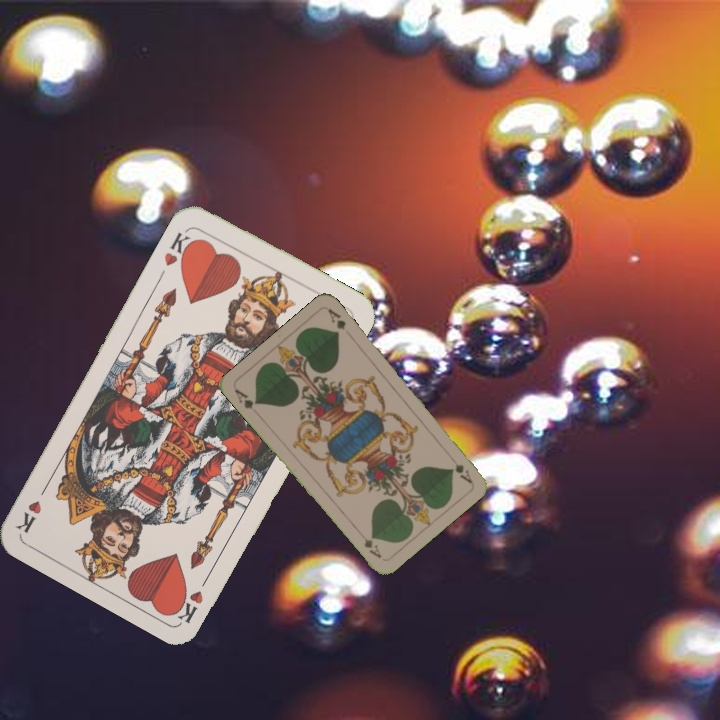GA: (445, 451, 475, 486), (230, 384, 261, 412)
HK: (171, 569, 214, 625), (160, 224, 198, 269)
